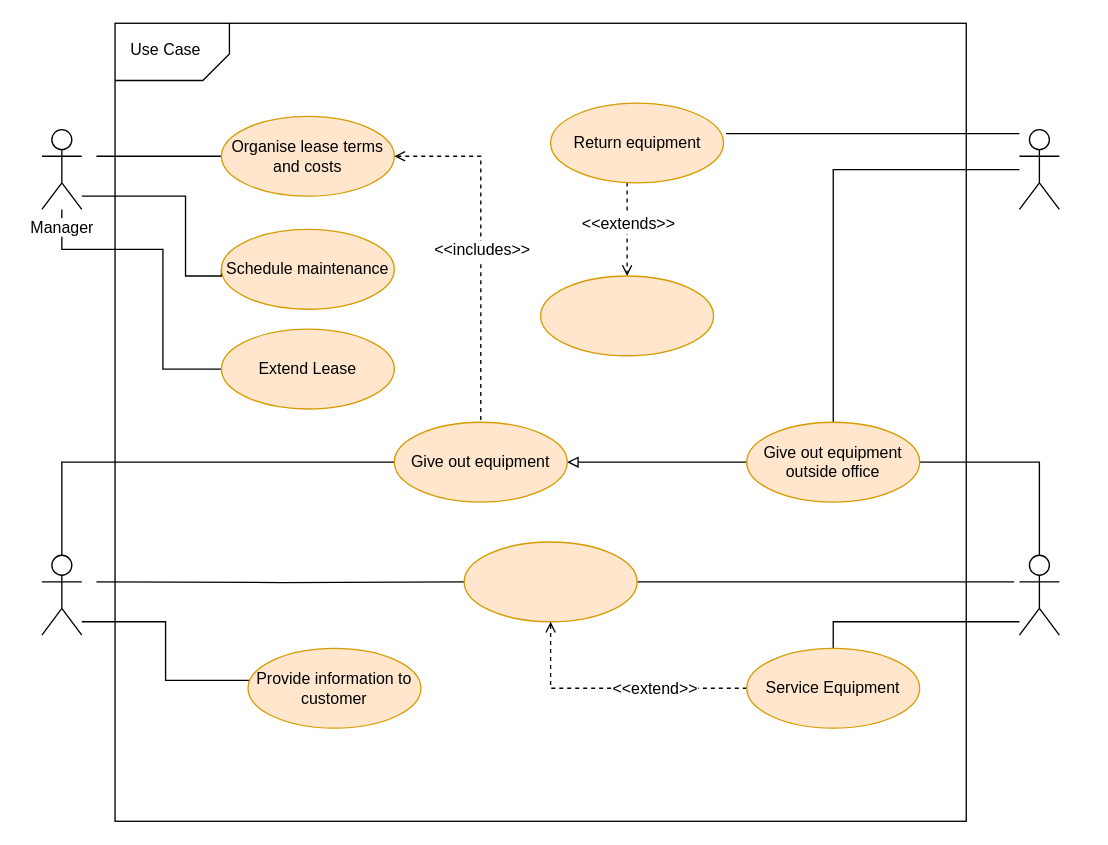
Image size: 1108x845. Some labels were removed from this diagram. The centre of each missing label's shape, as x and y in pixels:
Check fuel level: pixel 626 315
Check jobs to complete: pixel 550 581
Maintenance Staff: pixel 1038 594
Office Staff: pixel 61 594
Warehouse Staff: pixel 1038 168
